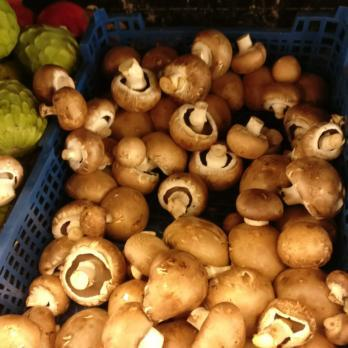Mushroom: (186, 28, 348, 348), (74, 42, 186, 348), (21, 204, 82, 348), (29, 62, 86, 107)
